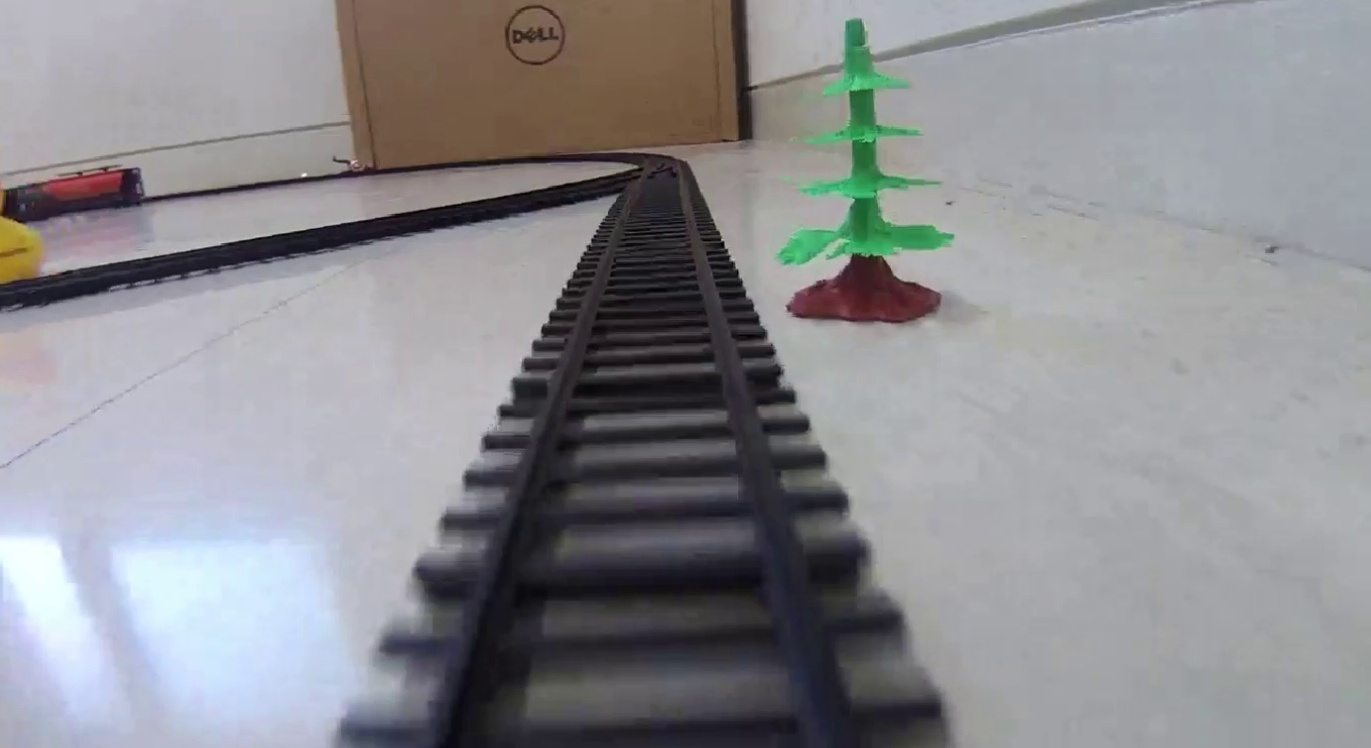tree: (777, 18, 951, 321)
